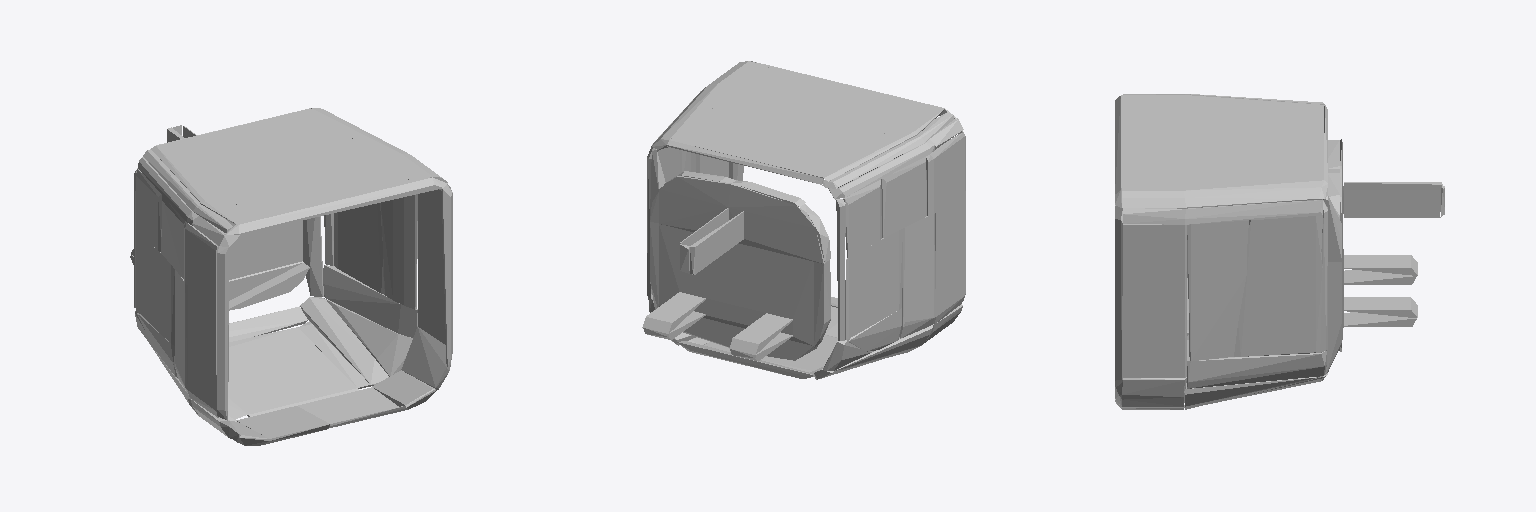
Rendered from Plug_UK_vhacd2.obj.
The picture shows the model from 3 angles: view 1: azimuth 30°, elevation 25°; view 2: azimuth 150°, elevation 25°; view 3: azimuth 270°, elevation 25°; orthographic projection.
Parts seen in each view (by area): view 1: convex_31, convex_39, convex_56, convex_54, convex_35, convex_10, convex_51, convex_44, convex_52, convex_3, convex_47, convex_49 (+22 smaller); view 2: convex_31, convex_44, convex_27, convex_51, convex_40, convex_10, convex_23, convex_24, convex_32, convex_34, convex_50, convex_26 (+19 smaller); view 3: convex_31, convex_35, convex_56, convex_54, convex_32, convex_52, convex_48, convex_41, convex_18, convex_49, convex_50, convex_22 (+9 smaller).
Boxes of the visible parts, x1,y1,x2,y2 form: convex_31: [157, 108, 409, 218]; convex_39: [228, 327, 358, 416]; convex_56: [418, 189, 445, 344]; convex_54: [380, 194, 417, 309]; convex_35: [334, 203, 384, 294]; convex_10: [188, 286, 218, 417]; convex_51: [136, 230, 174, 345]; convex_44: [215, 220, 302, 279]; convex_52: [323, 265, 417, 337]; convex_3: [224, 177, 447, 234]; convex_47: [300, 297, 388, 386]; convex_49: [324, 298, 412, 376]; convex_31: [670, 67, 923, 178]; convex_44: [659, 224, 813, 345]; convex_27: [659, 176, 824, 263]; convex_51: [845, 229, 902, 339]; convex_40: [900, 214, 935, 338]; convex_10: [934, 192, 964, 324]; convex_23: [881, 157, 926, 237]; convex_24: [926, 132, 964, 215]; convex_32: [652, 61, 769, 149]; convex_34: [843, 180, 881, 258]; convex_50: [824, 104, 943, 181]; convex_26: [690, 211, 743, 274]; convex_31: [1123, 105, 1323, 179]; convex_35: [1234, 215, 1322, 356]; convex_56: [1123, 224, 1186, 377]; convex_54: [1187, 221, 1248, 360]; convex_32: [1122, 180, 1327, 208]; convex_52: [1187, 351, 1326, 388]; convex_48: [1123, 200, 1322, 224]; convex_41: [1344, 190, 1439, 217]; convex_18: [1115, 377, 1186, 407]; convex_49: [1184, 377, 1317, 409]; convex_50: [1123, 94, 1324, 104]; convex_22: [1115, 205, 1122, 386].
Size of the model in its own units: 0.0603 by 0.0552 by 0.073.